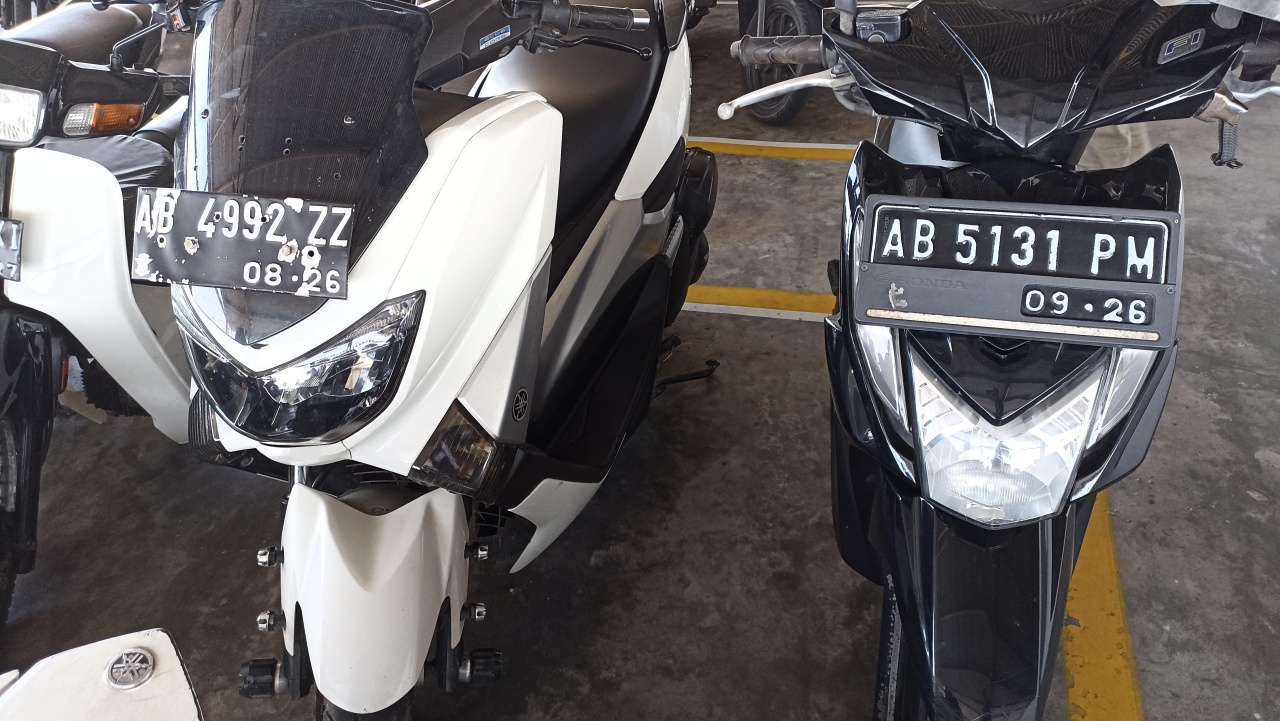plate: (855, 197, 1178, 349), (131, 186, 355, 299)
